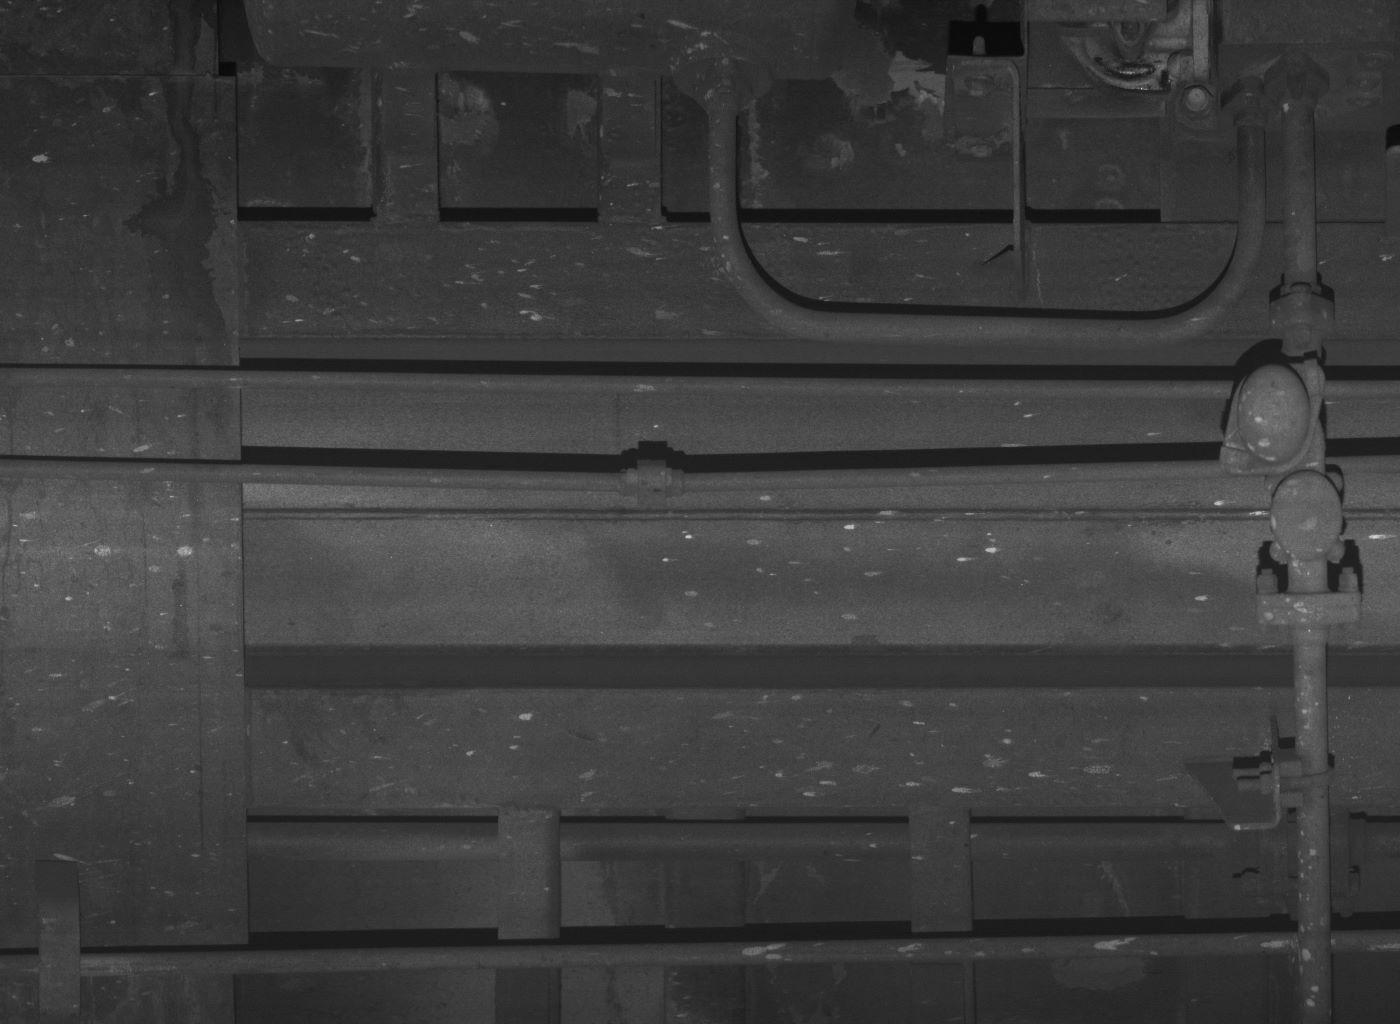normal: (1268, 467, 1348, 564)
